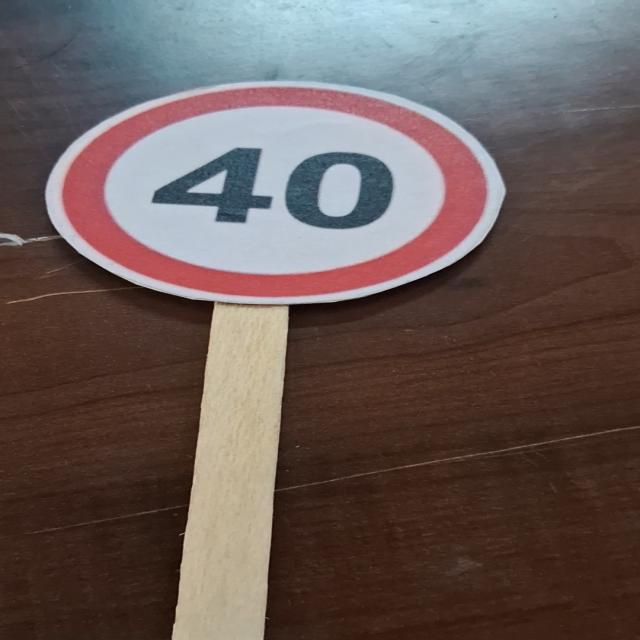Speed40: (40, 77, 504, 308)
